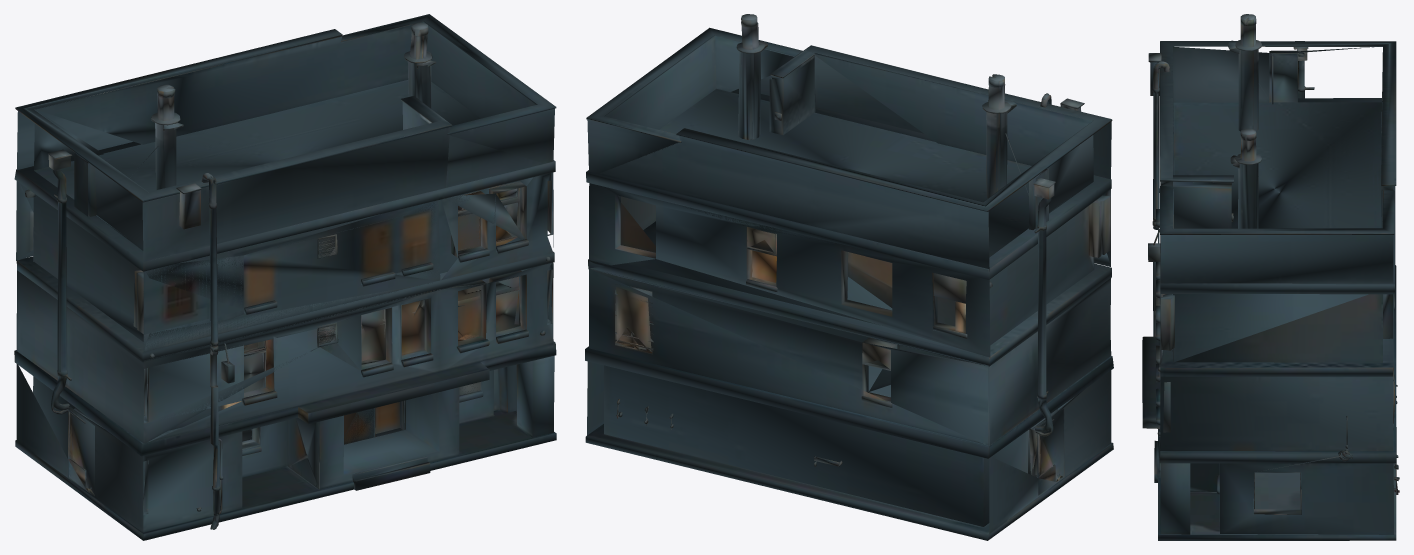
3 renders of one model, left to right at view 1: azimuth 30°, elevation 25°; view 2: azimuth 150°, elevation 25°; view 3: azimuth 270°, elevation 25°, orthographic. The views are drawn at different scales.
Size of the model in its own units: 0.957 by 0.8369 by 0.5259.
1 material, 1 textured.
